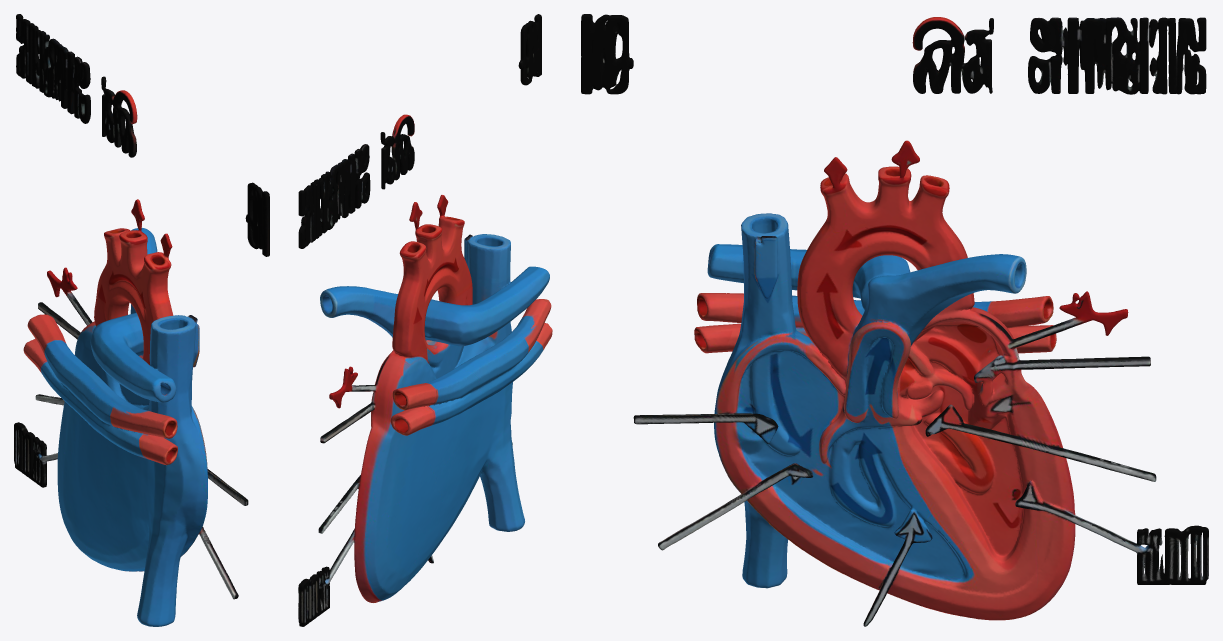
Rendered from heart-from-labelled-infographic.glb.
The picture shows the model from 3 angles, left to right: view 1: azimuth 30°, elevation 25°; view 2: azimuth 150°, elevation 25°; view 3: azimuth 270°, elevation 25°; orthographic projection. The views are drawn at different scales.
Visible parts, largest first — view 1: tripo_node_a9e277e8-5c41-4825-b7b8-7e0fc19abf30; view 2: tripo_node_a9e277e8-5c41-4825-b7b8-7e0fc19abf30; view 3: tripo_node_a9e277e8-5c41-4825-b7b8-7e0fc19abf30.
Boxes of the visible parts, x1=… form: tripo_node_a9e277e8-5c41-4825-b7b8-7e0fc19abf30: x1=14, y1=14, x2=269, y2=626; tripo_node_a9e277e8-5c41-4825-b7b8-7e0fc19abf30: x1=298, y1=14, x2=552, y2=626; tripo_node_a9e277e8-5c41-4825-b7b8-7e0fc19abf30: x1=581, y1=14, x2=1208, y2=626.
Size of the model in its own units: 0.2805 by 1 by 0.93.
Materials: 1 (1 with a texture image).
